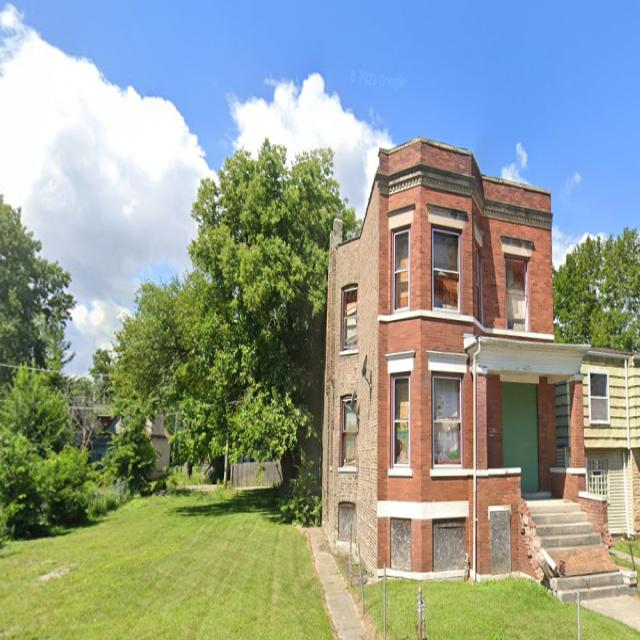House: (323, 134, 640, 604), (577, 348, 640, 538)
